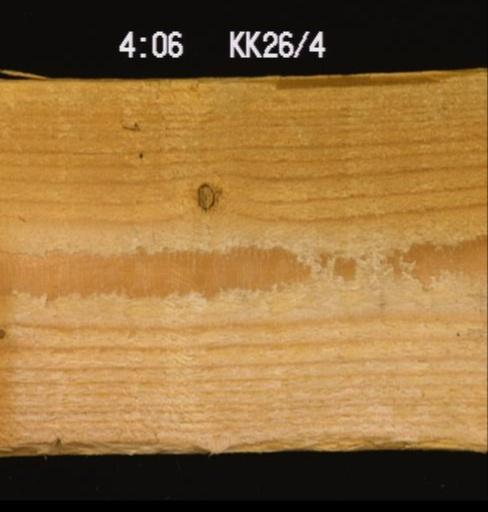dry_knot: (192, 179, 216, 208)
wave: (0, 418, 486, 453), (264, 68, 486, 93)
